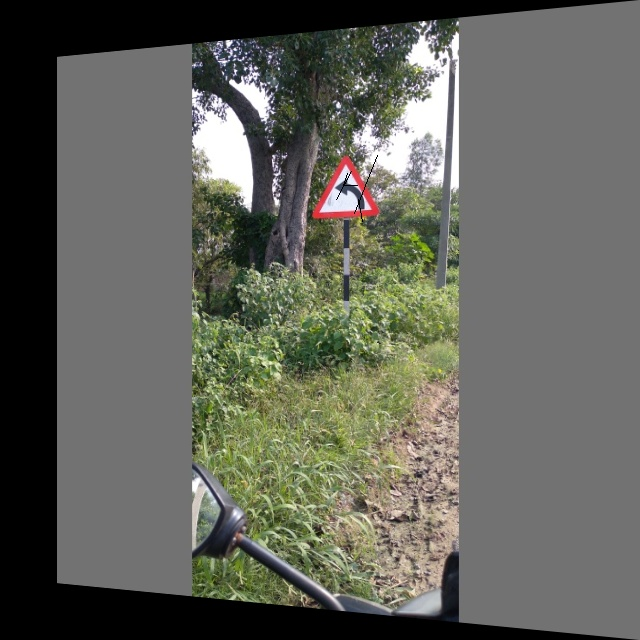Left_Hand_Curve: (308, 149, 379, 222)
